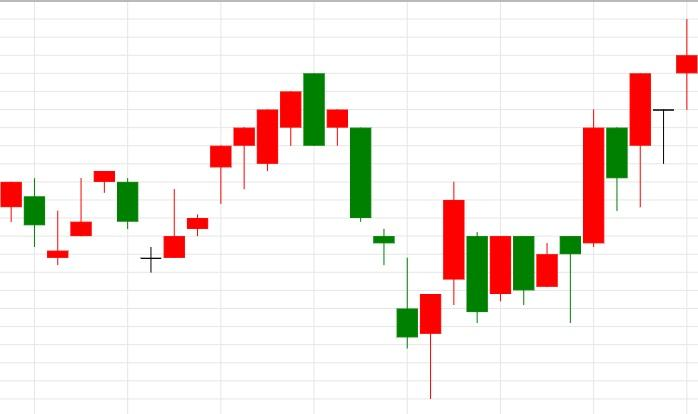bearish_engulfing_fall: (141, 73, 325, 272)
hammer_rise: (304, 74, 441, 399)
inverse_hammer_rise: (304, 73, 418, 349)
